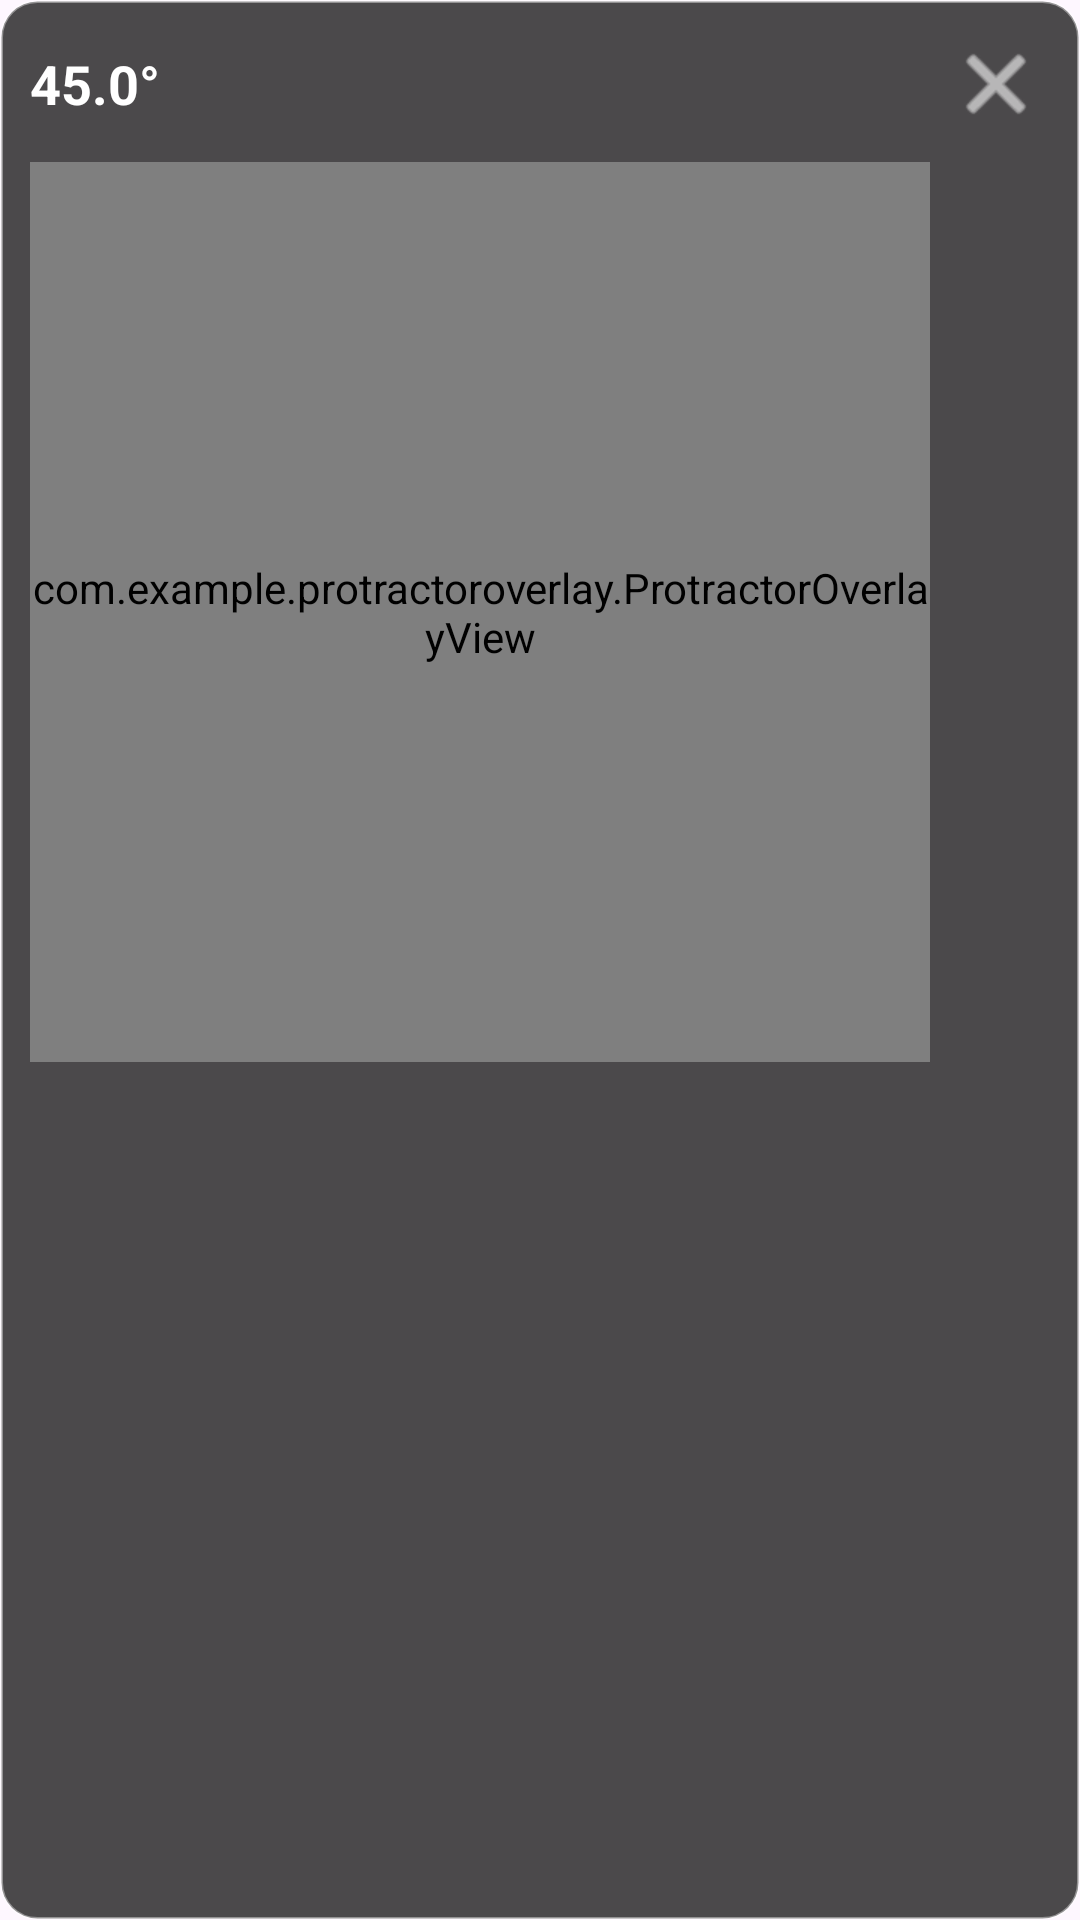

Point at icon controls on the screen. Image size 1080×1920, points as [x,y].
关闭: [996,84]
